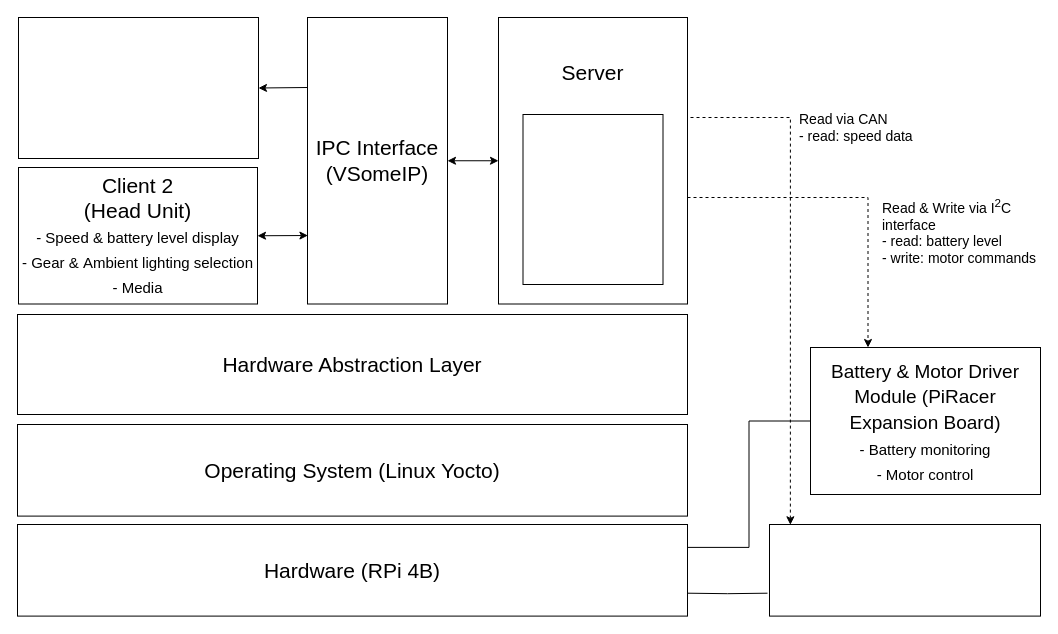
Image size: 1058x634. Some labels were removed from this diagram. The centre of each missing label's shape, as x and y in pixels:
Client 1 (Instrument Cluster) - Speed & battery level display - Gear status: the point at 138,87
Data table - Speed - Battery level - Gear - Ambient lighting - ...: the point at 592,199
Speed Sensor Module (Arduino Uno): the point at 904,570
